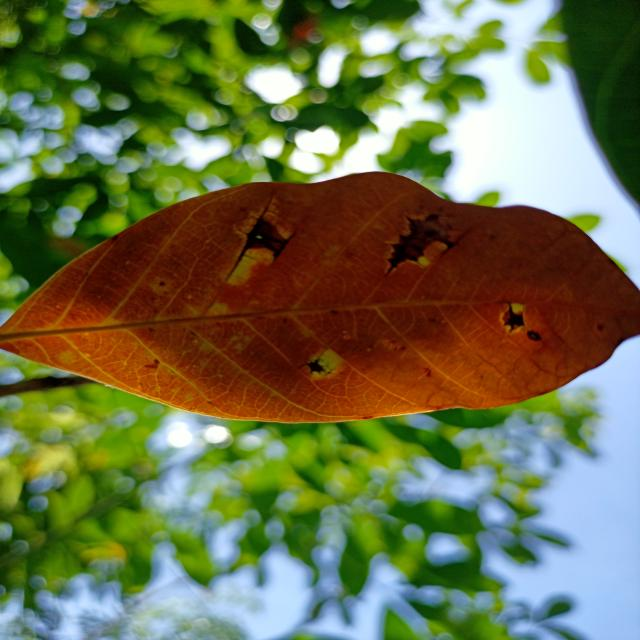Corynespora: (224, 195, 296, 281), (384, 213, 468, 277), (298, 352, 330, 375), (503, 303, 525, 334)
